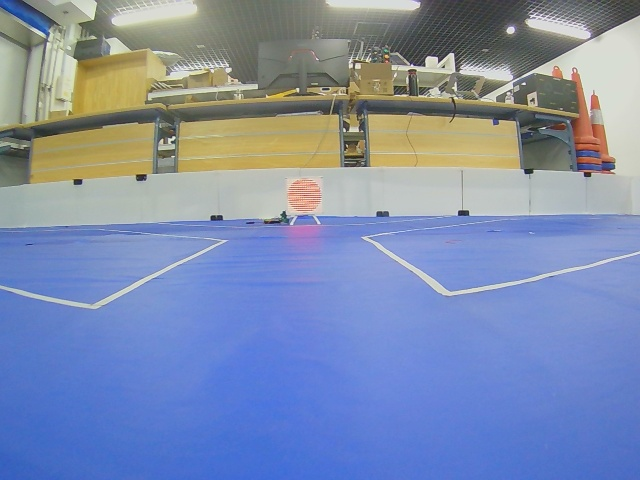red: (287, 178, 322, 214)
